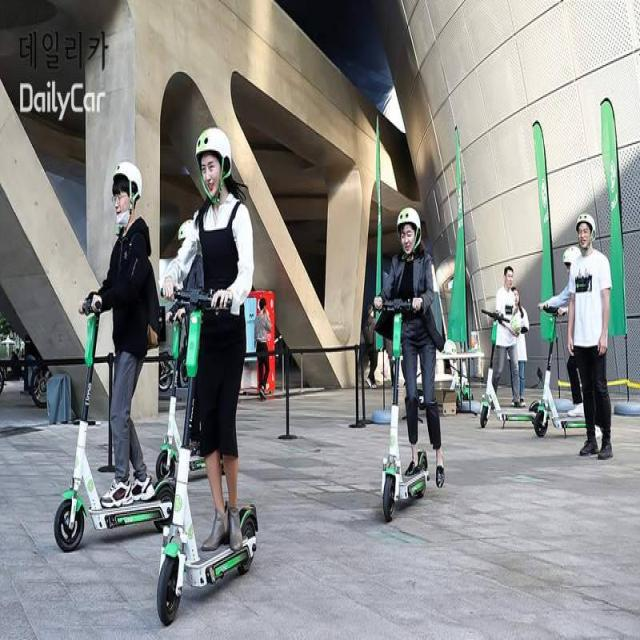helmet: (144, 100, 268, 636), (42, 147, 182, 558), (366, 193, 453, 536)
